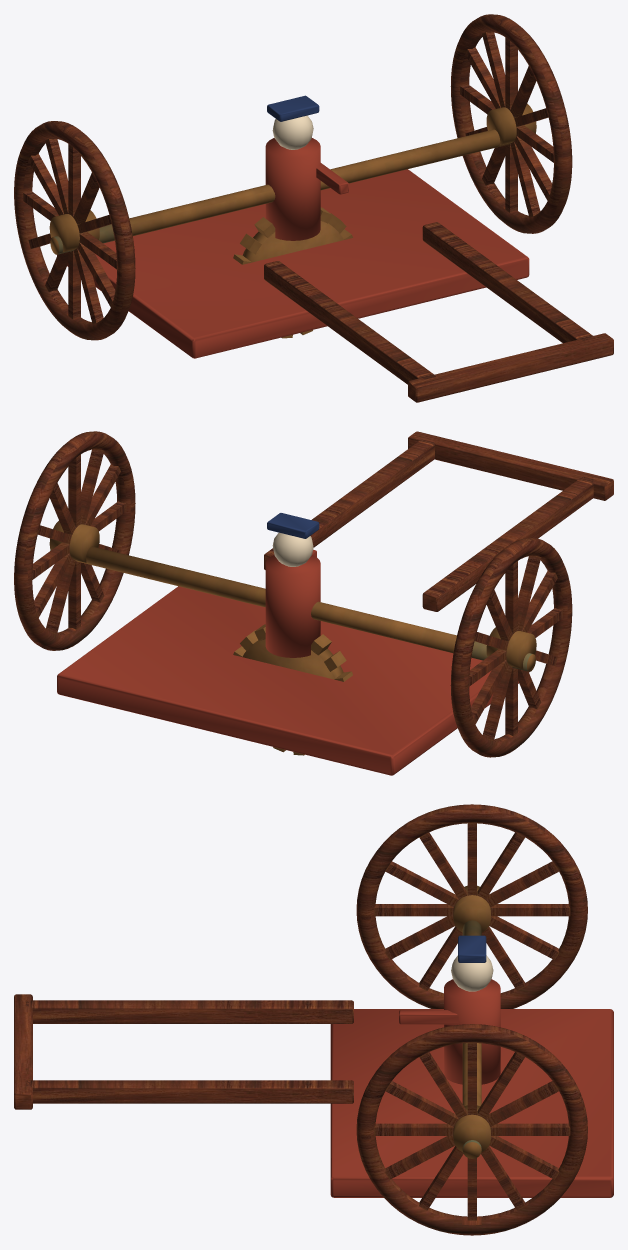
The model's file is chariot.glb.
The picture shows the model from 3 angles, top to bottom: view 1: azimuth 30°, elevation 25°; view 2: azimuth 150°, elevation 25°; view 3: azimuth 270°, elevation 25°; orthographic projection. The views are drawn at different scales.
Parts seen in each view (by area): view 1: ch_body, ch_木人, ch_立轮; view 2: ch_body, ch_木人, ch_立轮; view 3: ch_body, ch_木人.
Boxes of the visible parts, box(x1,y1,x2,y2) form: ch_body: box(14, 14, 613, 402); ch_木人: box(265, 95, 348, 240); ch_立轮: box(233, 207, 352, 338); ch_body: box(14, 431, 613, 775); ch_木人: box(265, 513, 320, 657); ch_立轮: box(233, 624, 352, 755); ch_body: box(14, 804, 613, 1235); ch_木人: box(399, 935, 500, 1084).
Bounding box in the file's own units: 0.24 × 0.124 × 0.254.
Materials: 6 (3 with a texture image).
